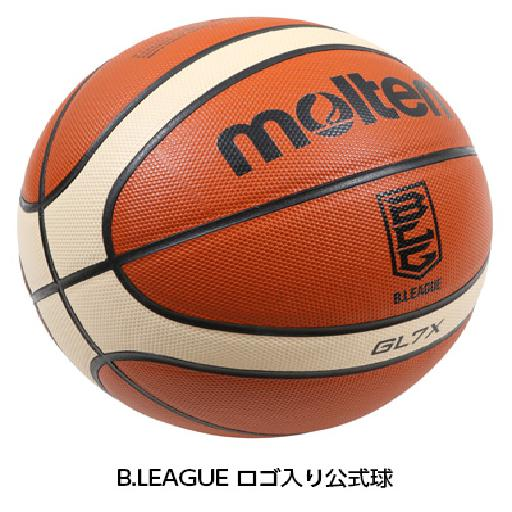ball: (18, 17, 492, 438)
